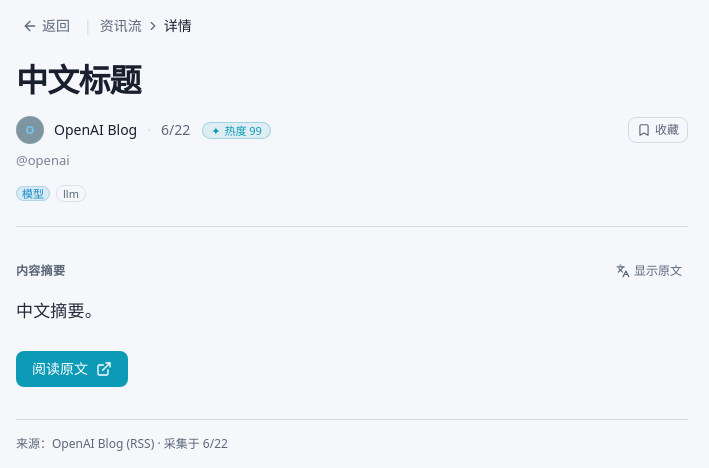
Test: ItemDetailPage › defaults to the Chinese translation and toggles to the original
Expected: the heading "中文标题" is shown, [16,58,141,101]
Expected: the text "中文摘要。" is shown, [16,299,102,322]
Note: Toggle reveals the original.
Click the button with test id "translation-toggle".
click(649, 271)  # box [610,259,688,283]
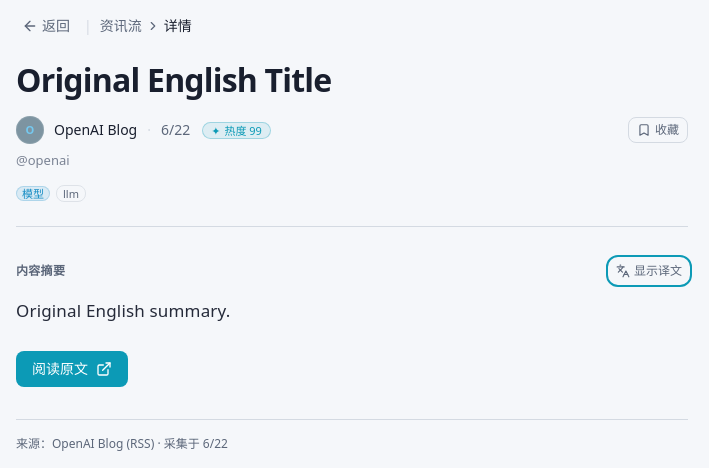
Expected: the heading "Original English Title" is shown, [16,58,331,101]
Expected: the text "Original English summary." is shown, [16,299,230,322]
